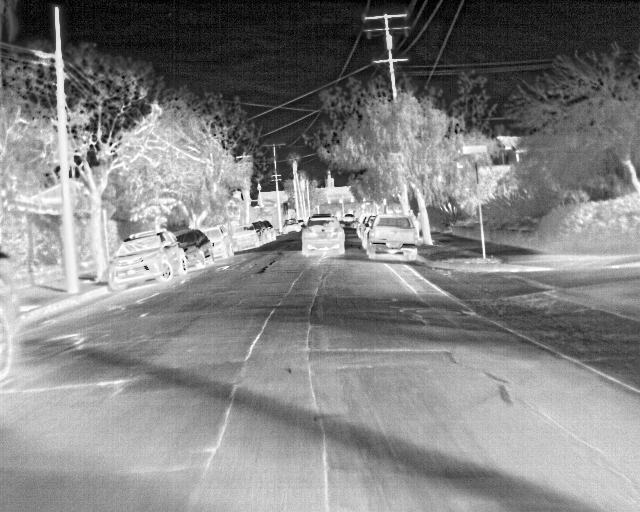car: (106, 226, 188, 294), (364, 214, 418, 261), (299, 213, 347, 259), (175, 225, 214, 268), (204, 223, 235, 259), (232, 221, 263, 251), (258, 220, 278, 242), (357, 214, 372, 238), (341, 211, 357, 224), (285, 218, 298, 234), (297, 218, 309, 230)
